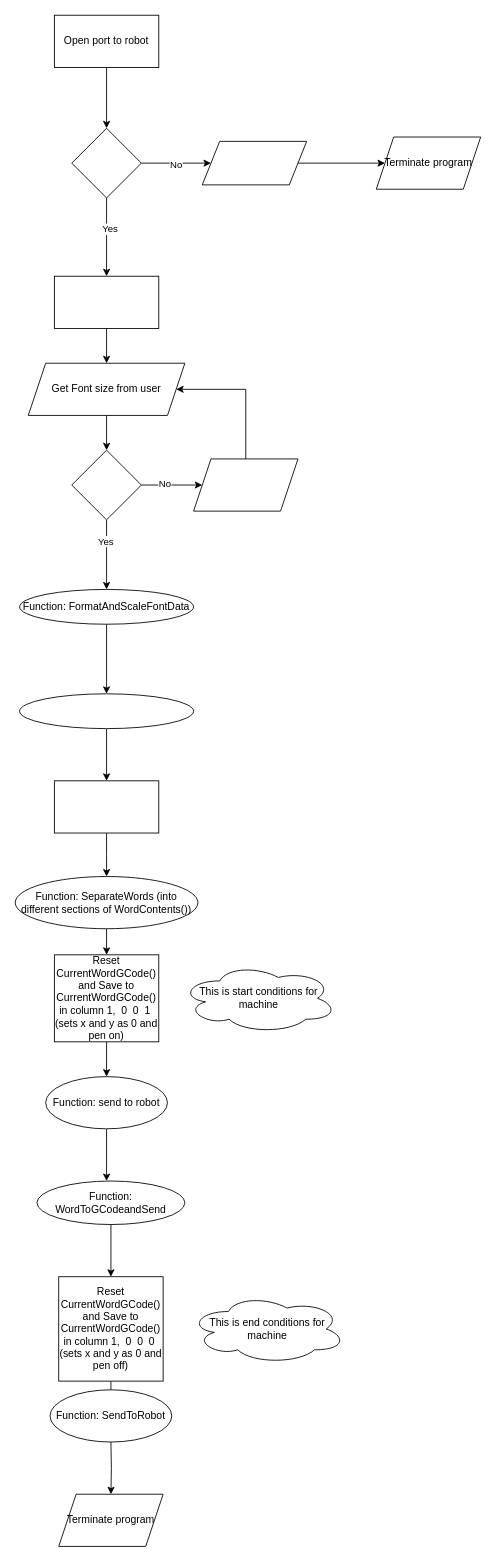
Some shapes in this 496 by 1562 pixel diagram are drawn without their labels. The shapes that lost their labels are listed below. From the top down, each one's centre as x and y in pixels, then its label:
the point at 106,162: Check if Robot is active
the point at 254,163: Error
the point at 106,301: Open font file in read
the point at 106,484: Is font size between 4 and 10
the point at 245,484: Error, ask user to reinput
the point at 106,711: Function: GetCharLocation
the point at 106,806: Open data text file
